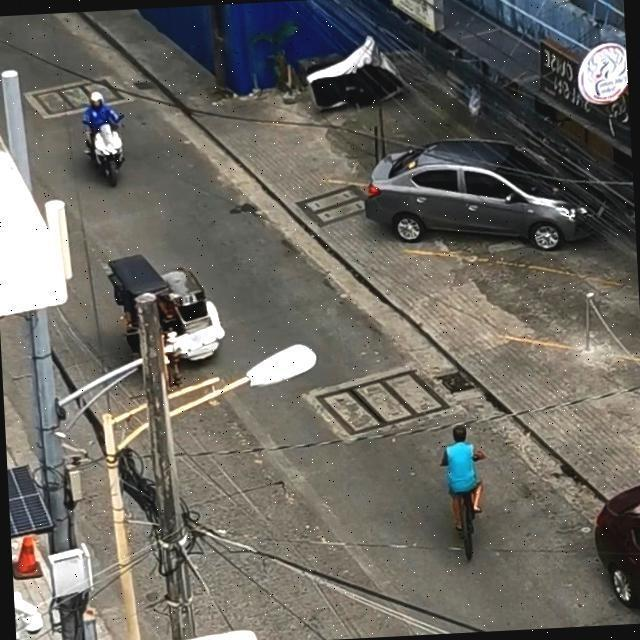Motorcycle: (68, 79, 148, 193)
Tricycle: (84, 231, 253, 415)
